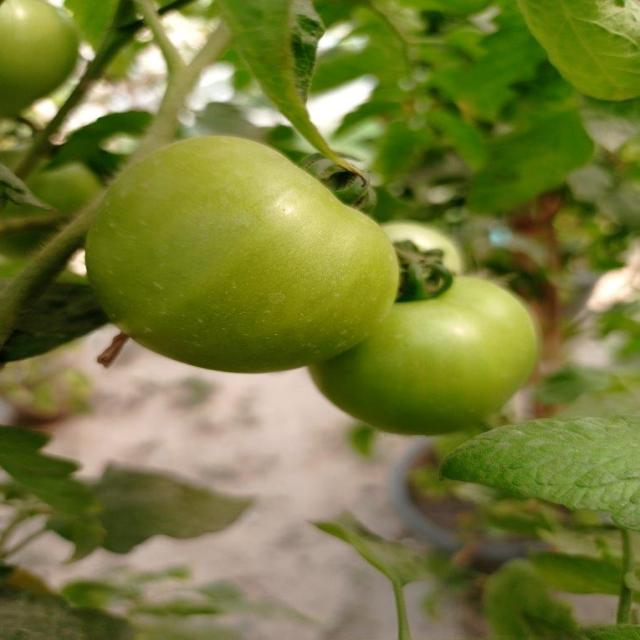Unripe: (90, 133, 396, 375), (315, 269, 539, 434)
